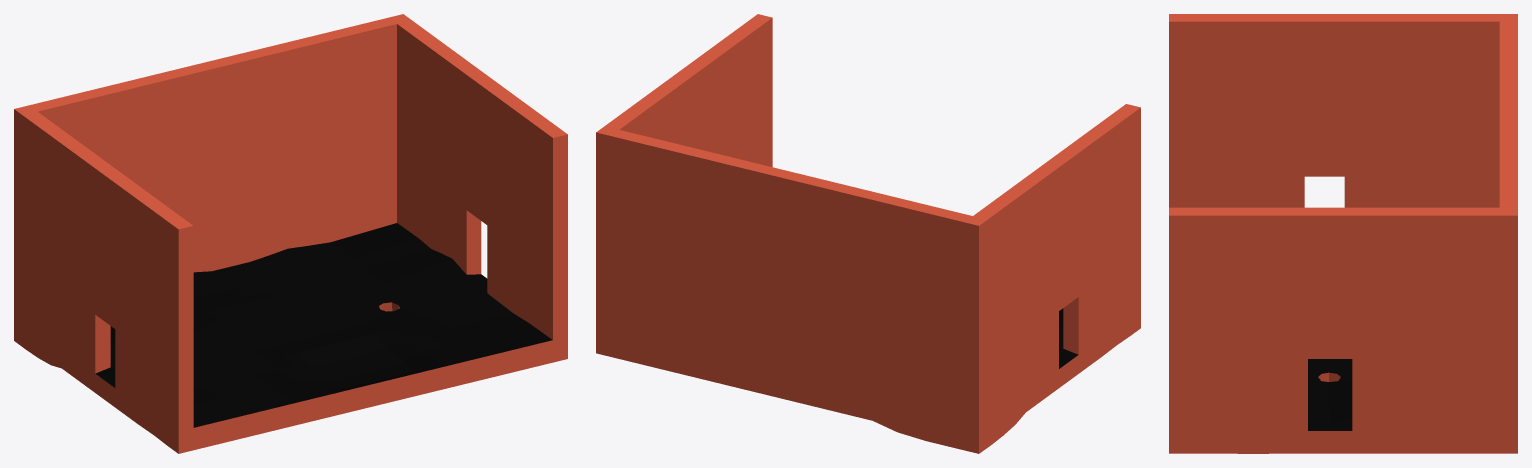
The model's file is FirstLevel_room3.fbx.
The picture shows the model from 3 angles, left to right: view 1: azimuth 30°, elevation 25°; view 2: azimuth 150°, elevation 25°; view 3: azimuth 270°, elevation 25°; orthographic projection. The views are drawn at different scales.
Visible parts, largest first — view 1: Cube.002; view 2: Cube.002; view 3: Cube.002.
Part boxes in pixels (box(x1,y1,x2,y2)): Cube.002: box(14, 14, 567, 453); Cube.002: box(596, 14, 1140, 453); Cube.002: box(1169, 14, 1517, 453).
Bounding box in the file's own units: 3487 × 1988 × 2552.
Materials: 2 (1 with a texture image).
